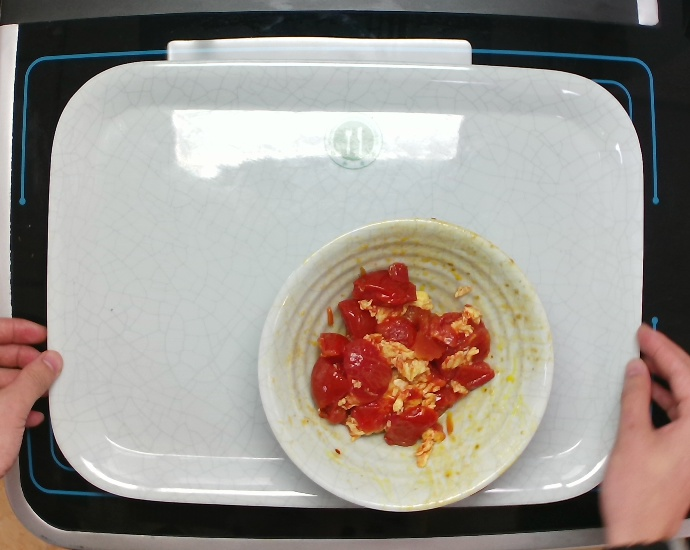JYsf-Xiao_Tang_Wan: (253, 211, 560, 518)
